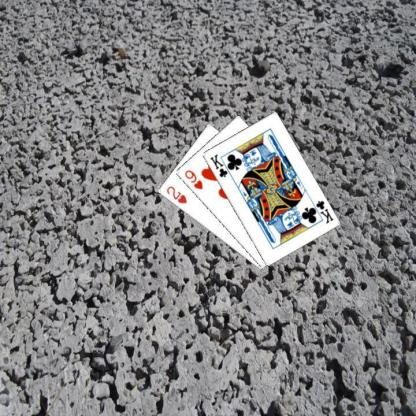2H: (163, 183, 188, 205)
9H: (181, 168, 204, 191)
KC: (207, 152, 233, 178), (308, 198, 334, 224)
